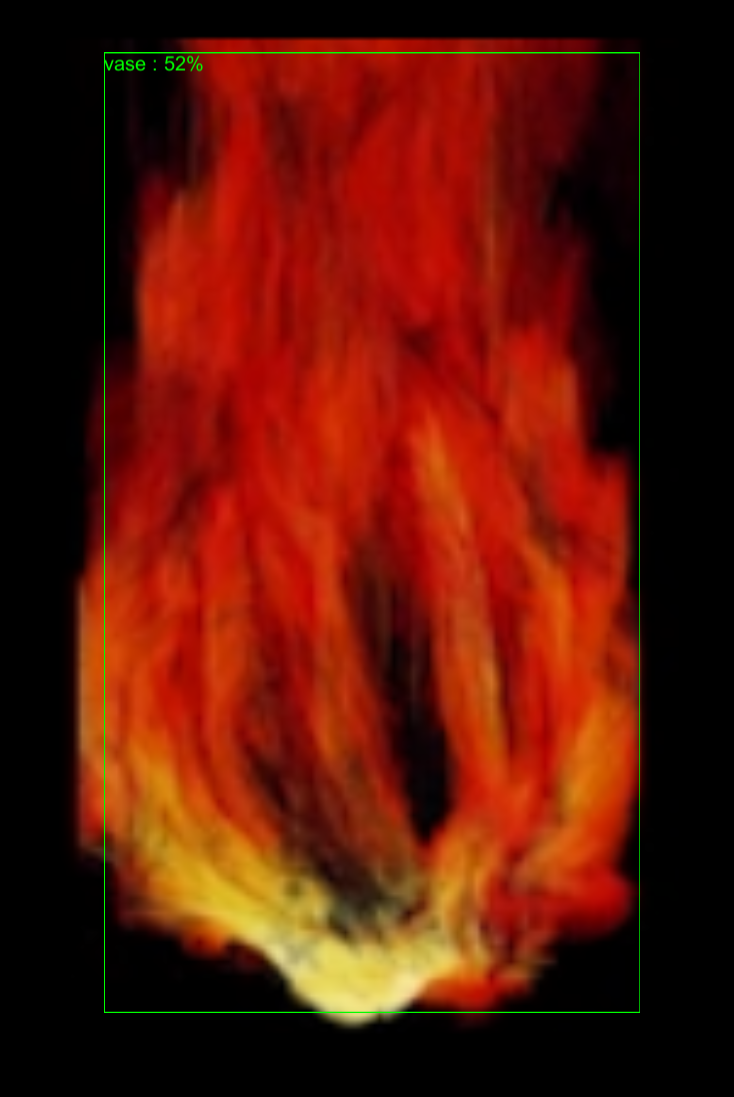flame: (126, 92, 626, 994)
smoke: (151, 79, 609, 244)
